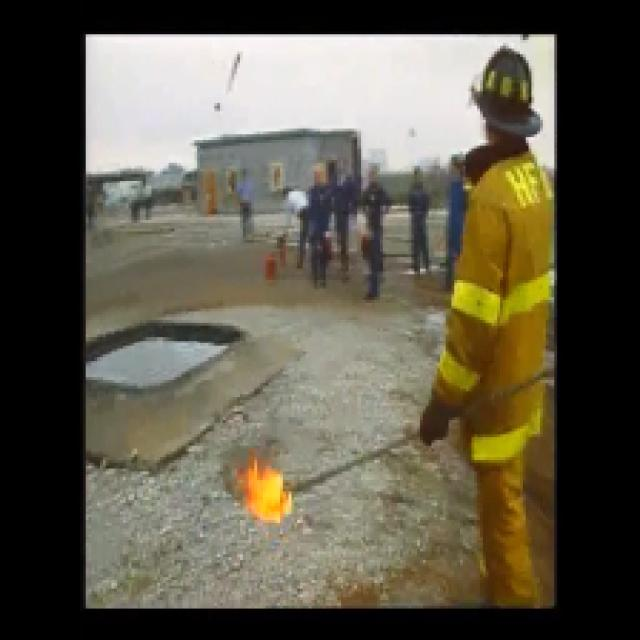fire: (218, 454, 289, 534)
